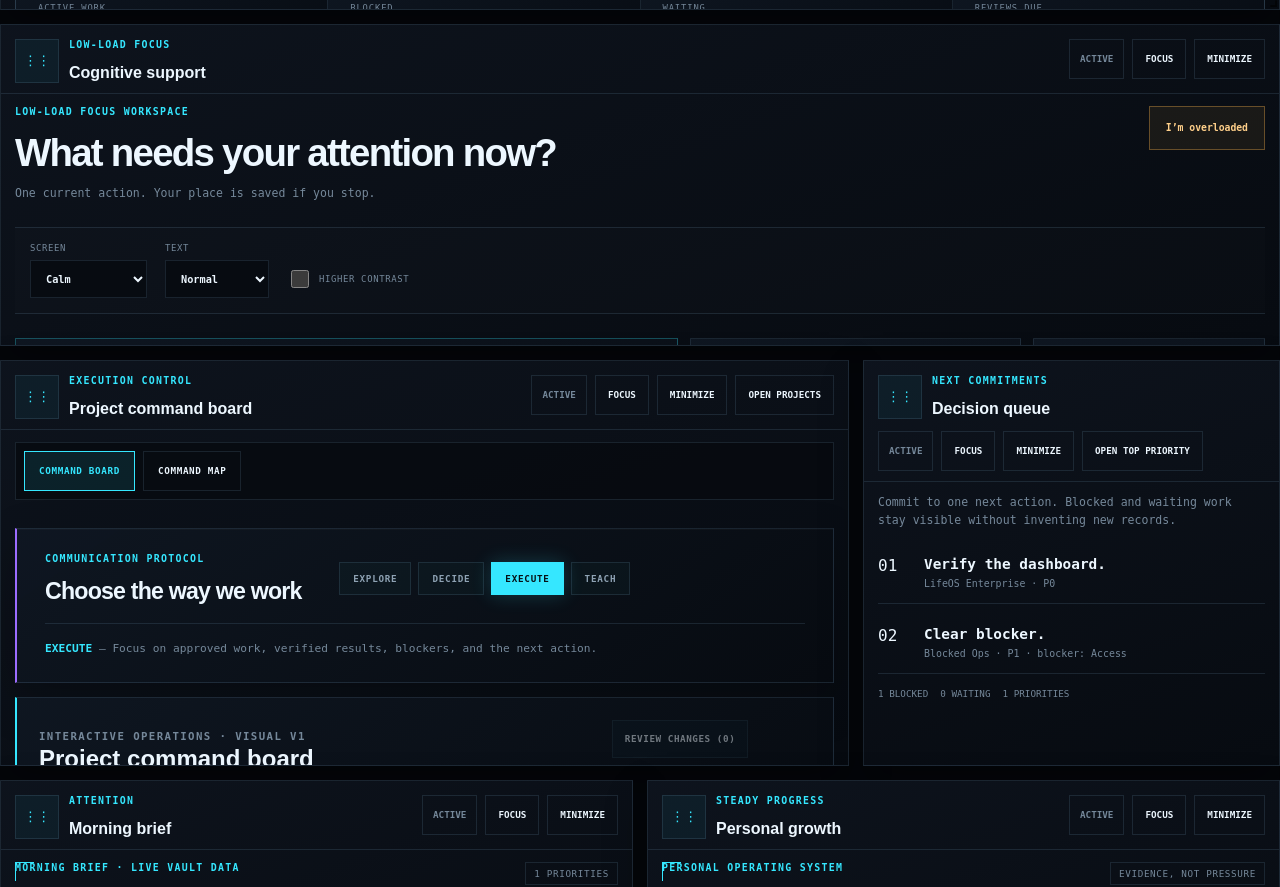
it: Workspace OS Command Center › minimizes and restores a widget
(page scrolled)
Click the button "Minimize" below "Decision queue" at [1039, 451], box [1003,431,1074,471]
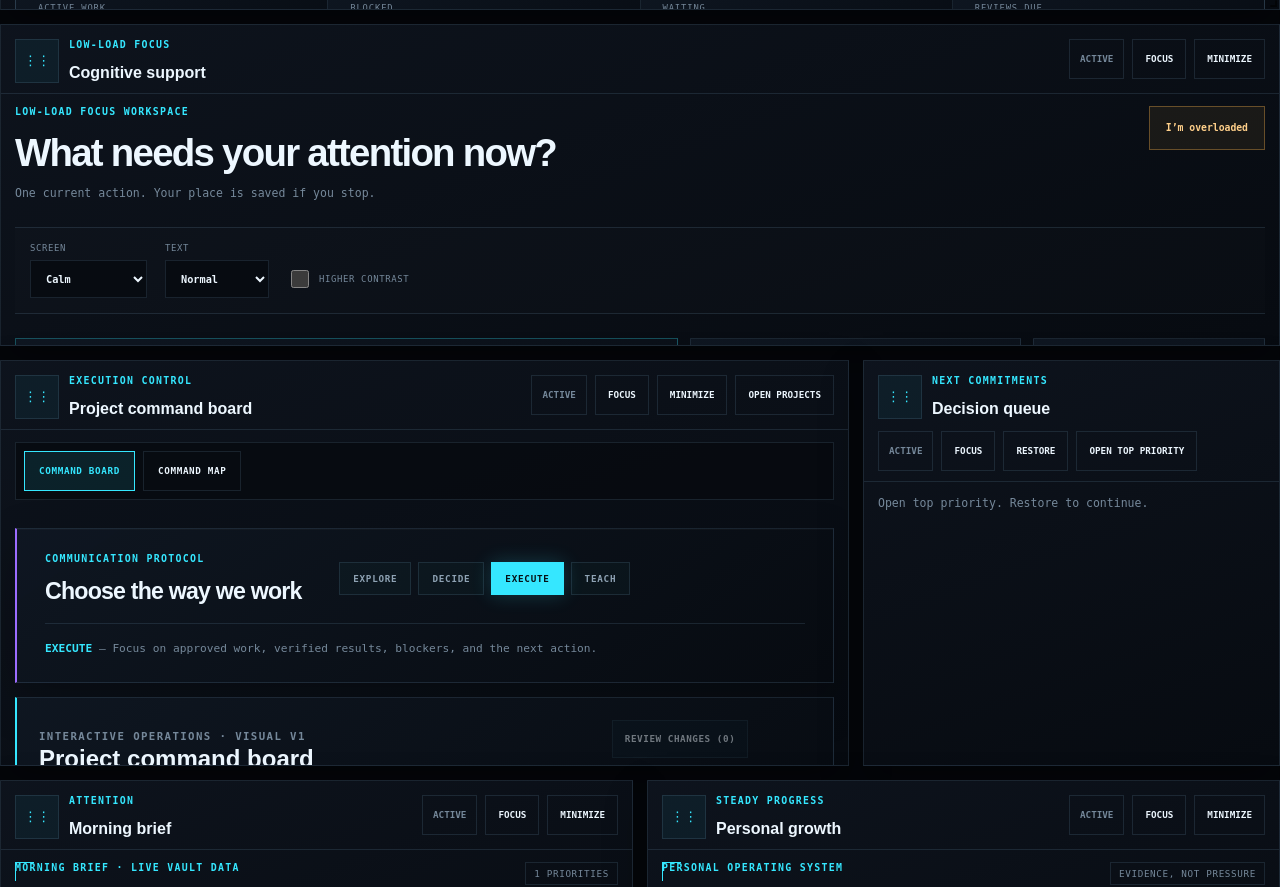
Expected: the button "Restore" is shown
Expected: the text "Open top priority. Restore to continue." is shown, [878,496,1148,510]
Click the button "Restore" at [1036, 451], box [1003,431,1068,471]
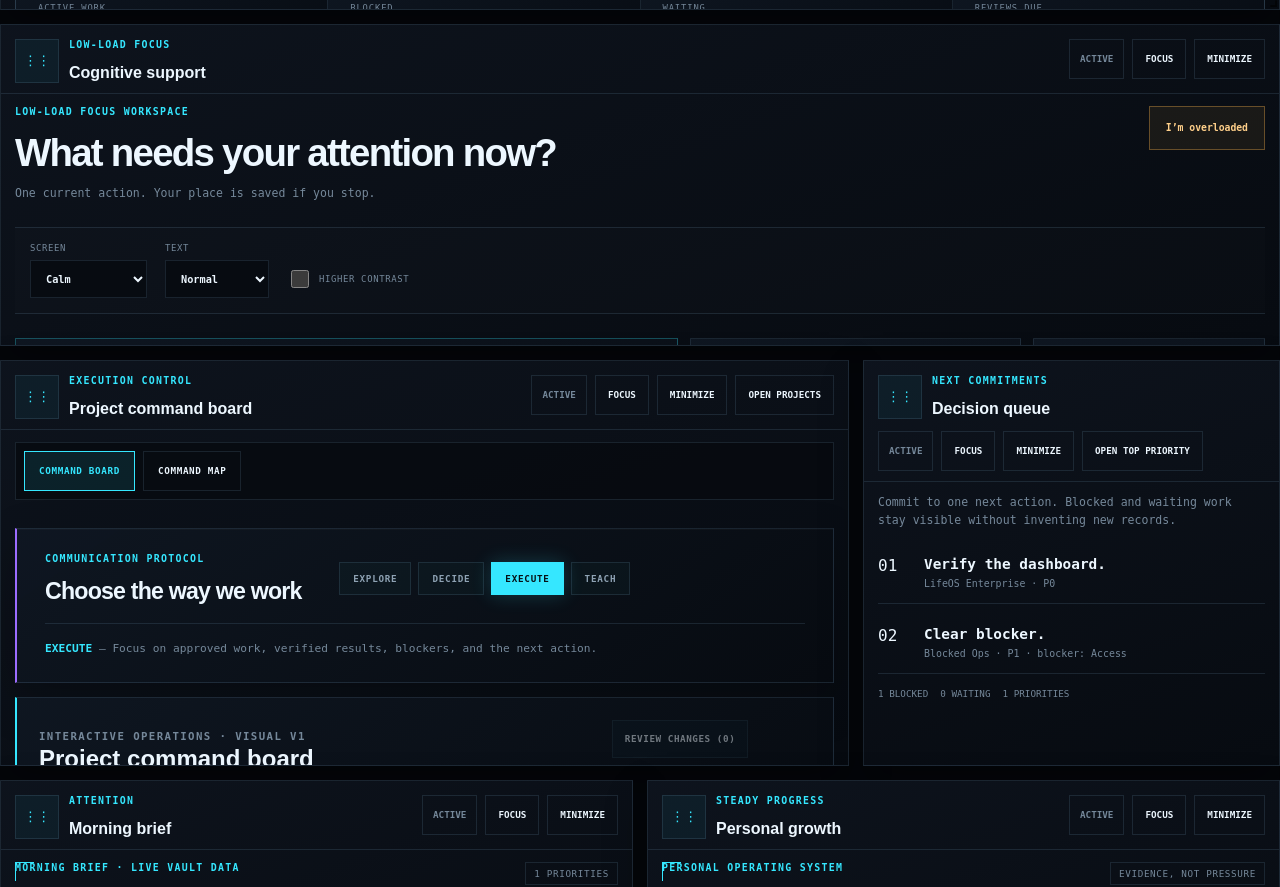
Expected: the button "Minimize" below "Decision queue" is shown, [1003,431,1074,471]
